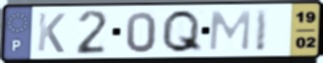0: (123, 9, 159, 55)
2: (74, 8, 109, 56)
I: (253, 7, 271, 54)
K: (35, 11, 67, 55)
M: (207, 9, 254, 53)
Q: (159, 8, 205, 55)
